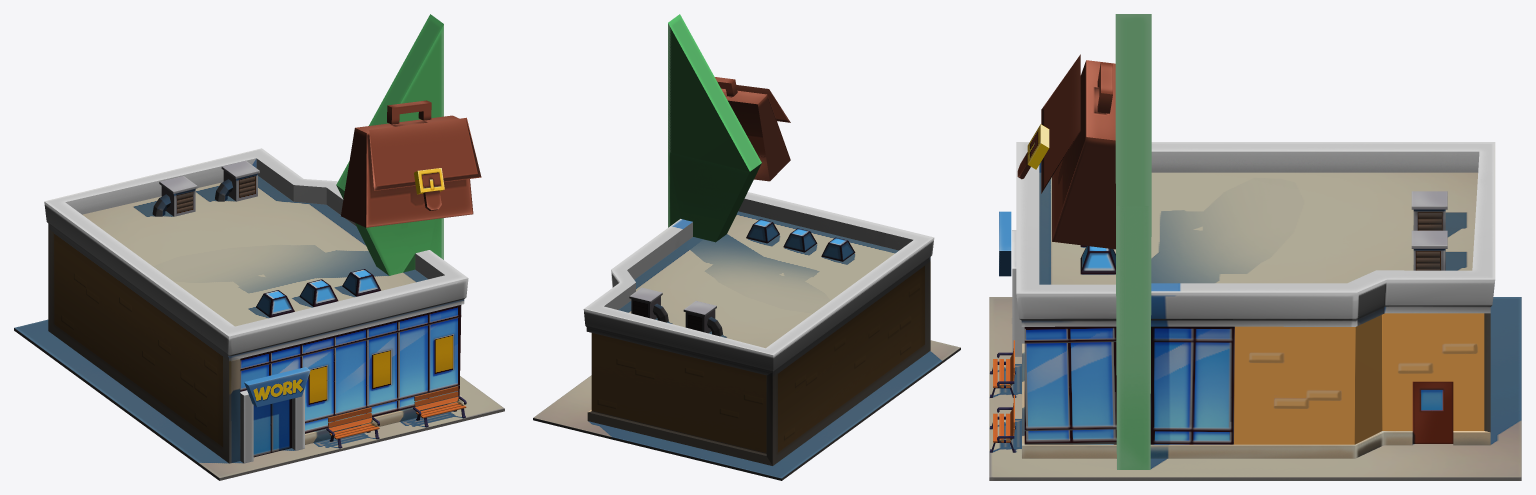
Rendered from Job Building.FBX.
The picture shows the model from 3 angles, left to right: view 1: azimuth 30°, elevation 25°; view 2: azimuth 150°, elevation 25°; view 3: azimuth 270°, elevation 25°; orthographic projection. The views are drawn at different scales.
Parts seen in each view (by area): view 1: Building3, bagflap, door; view 2: Building3, bagflap; view 3: Building3, bagflap.
Boxes of the visible parts, bbox=[...] form: Building3: bbox=[14, 14, 504, 480]; bagflap: bbox=[369, 117, 481, 210]; door: bbox=[253, 399, 291, 457]; Building3: bbox=[533, 14, 960, 480]; bagflap: bbox=[721, 85, 790, 122]; Building3: bbox=[989, 14, 1521, 480]; bagflap: bbox=[1017, 54, 1080, 193].
Bounding box in the file's own units: 6.24 × 7.41 × 7.78.
